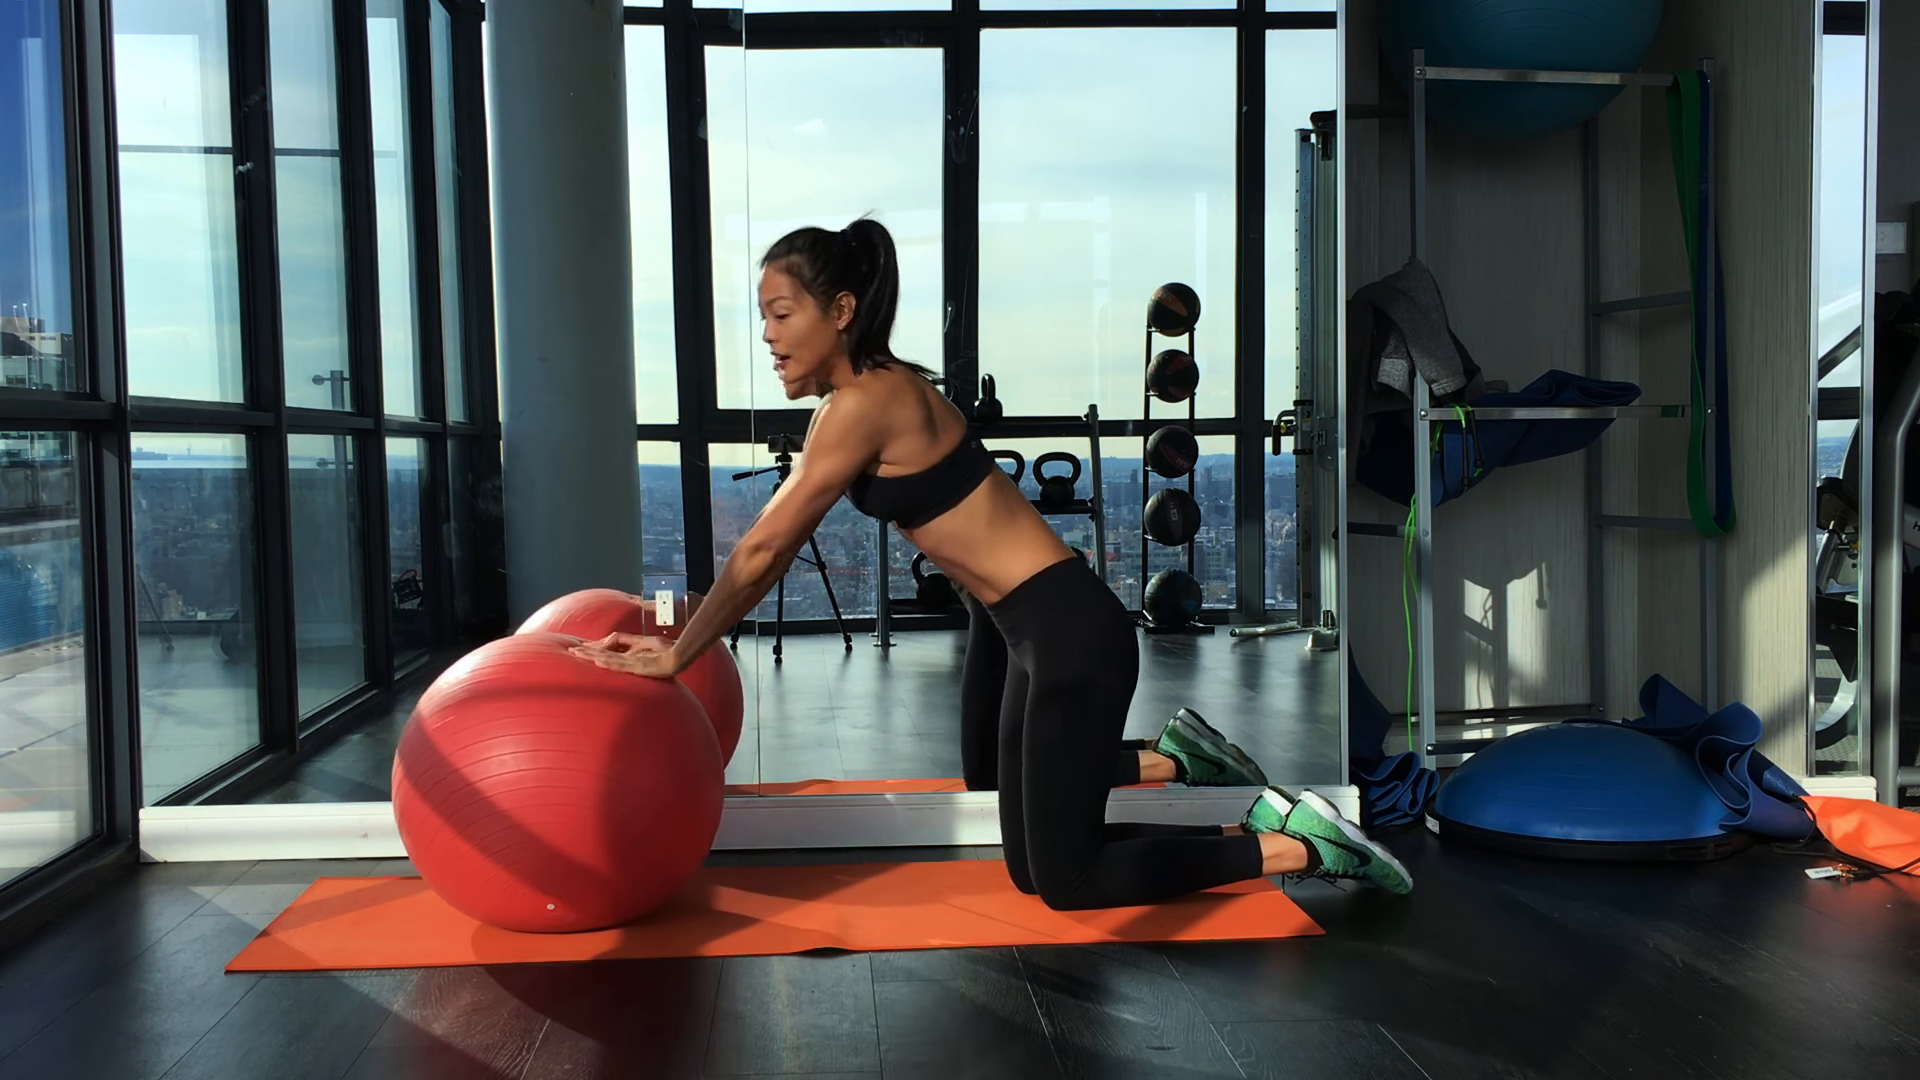yogaball: (381, 624, 733, 938)
